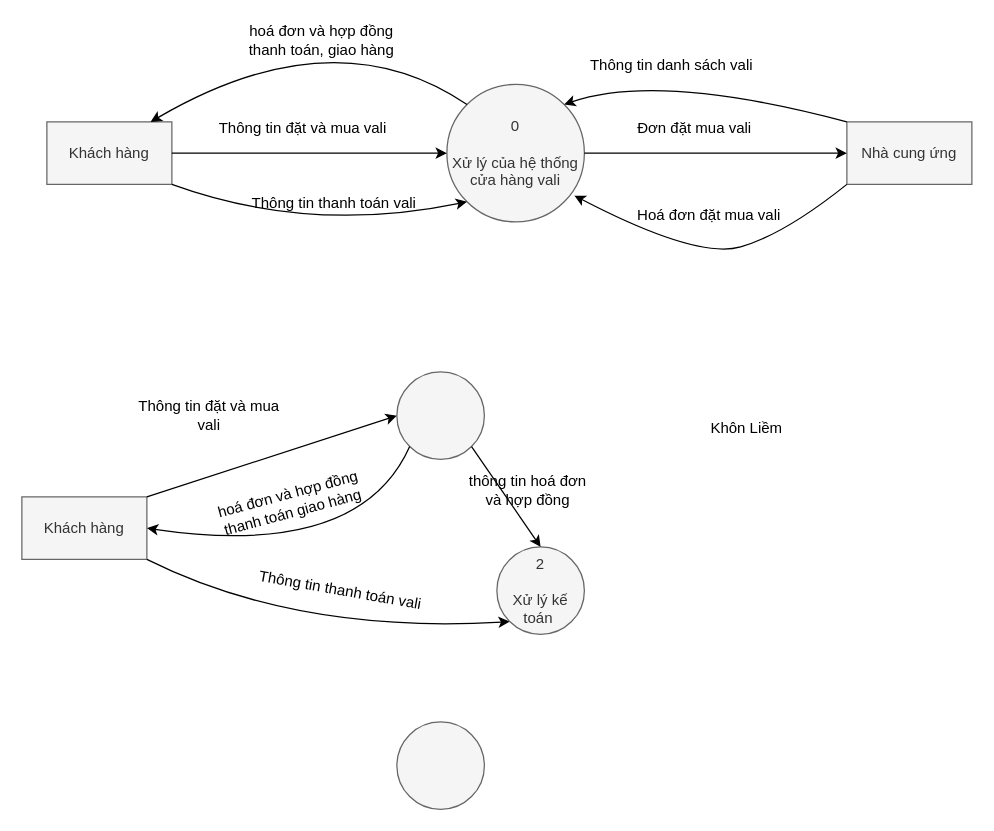
The diagram is 994 pixels wide and 831 high, and some of its shapes have lost their labels. Here are the shapes that lost their labels. From the top down, the centre of each, then its label:
point (440, 415): 1 Xử lý bán
point (440, 765): 3 Xử lý giao hàng
